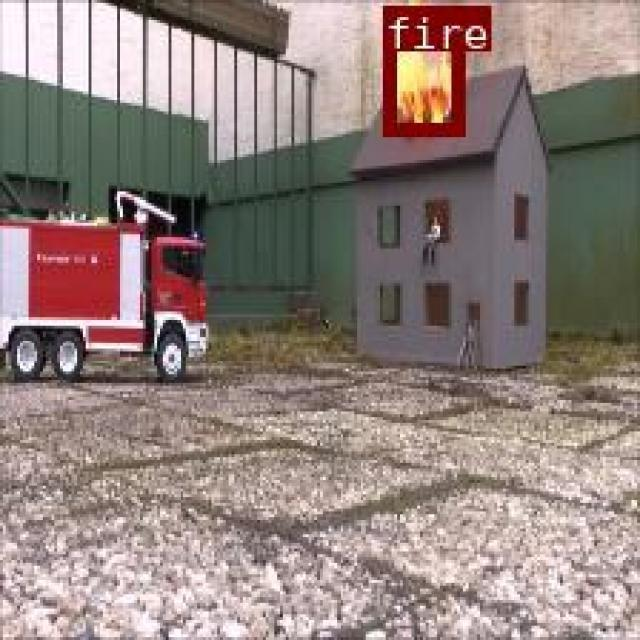fire: (381, 5, 463, 132)
